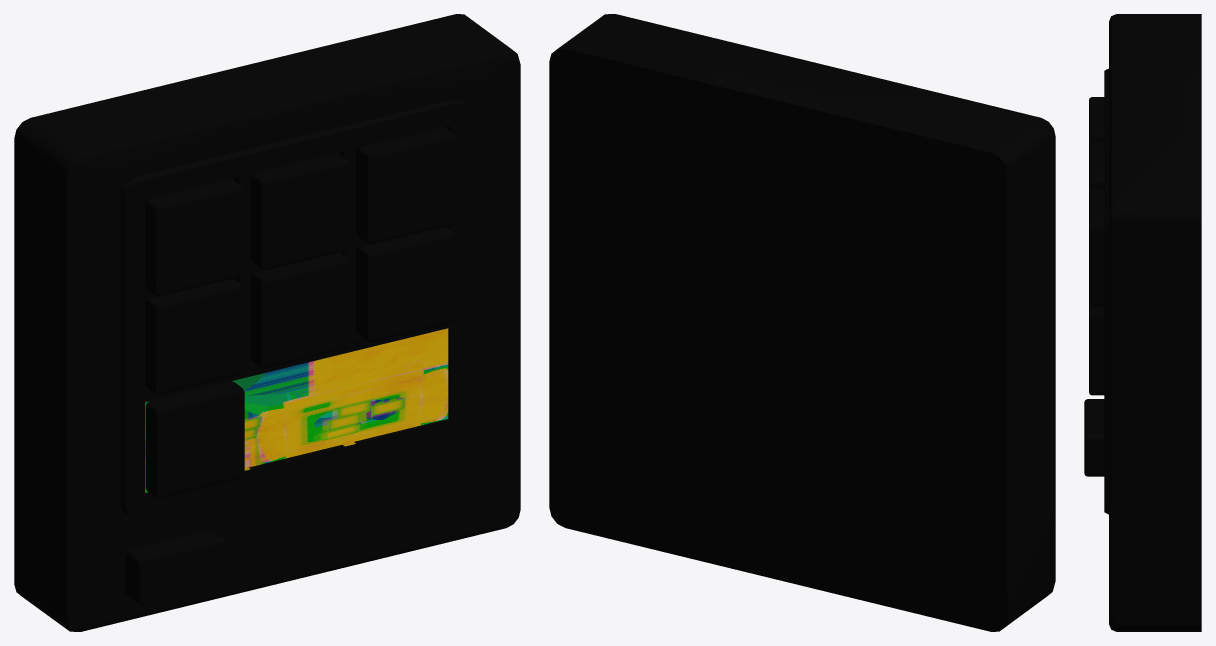
Rendered from keypad-slider.glb.
3 renders of one model, left to right at view 1: azimuth 30°, elevation 25°; view 2: azimuth 150°, elevation 25°; view 3: azimuth 270°, elevation 25°, orthographic. The views are drawn at different scales.
Visible parts, largest first — view 1: security_keypad_button.002; view 2: security_keypad_button.002; view 3: security_keypad_button.002.
Part boxes in pixels (x1,y1,x2,y2): security_keypad_button.002: [14, 14, 520, 631]; security_keypad_button.002: [549, 14, 1055, 631]; security_keypad_button.002: [1084, 14, 1201, 631].
Bounding box in the file's own units: 0.421 × 0.421 × 0.1043.
9 materials, 1 textured.
